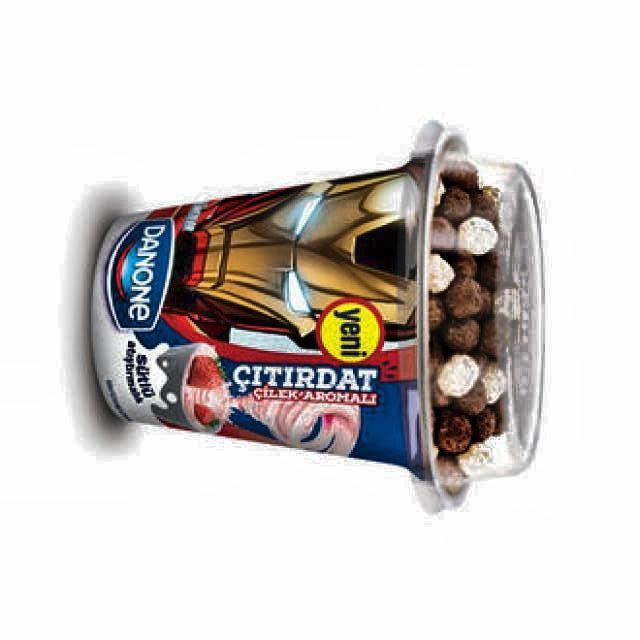plastic: (91, 124, 543, 510)
